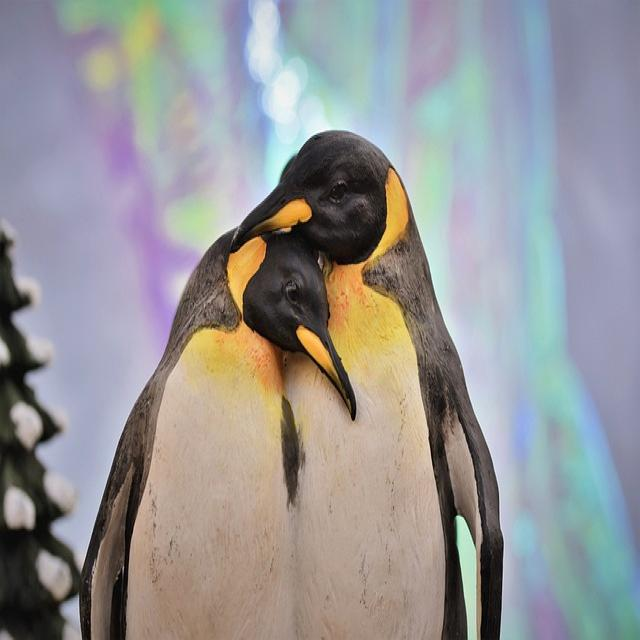Carnivorous: (233, 132, 505, 640), (80, 232, 357, 640)
